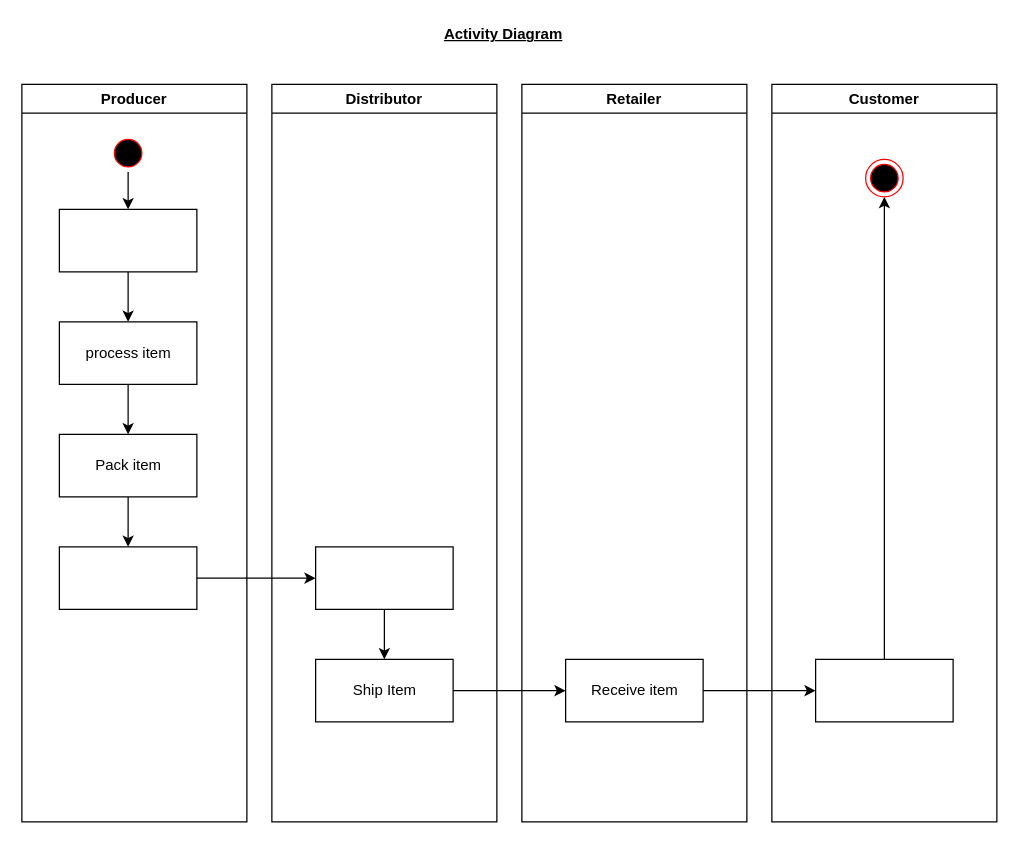
Some shapes in this 1019 by 844 pixel diagram are drawn without their labels. Here are the shapes that lost their labels. From the top down, the centre of each, then its label:
At point (127, 240): "Harvest Item".
At point (127, 577): "Add item".
At point (383, 577): "Buy Item".
At point (883, 690): "Purchase Item".
